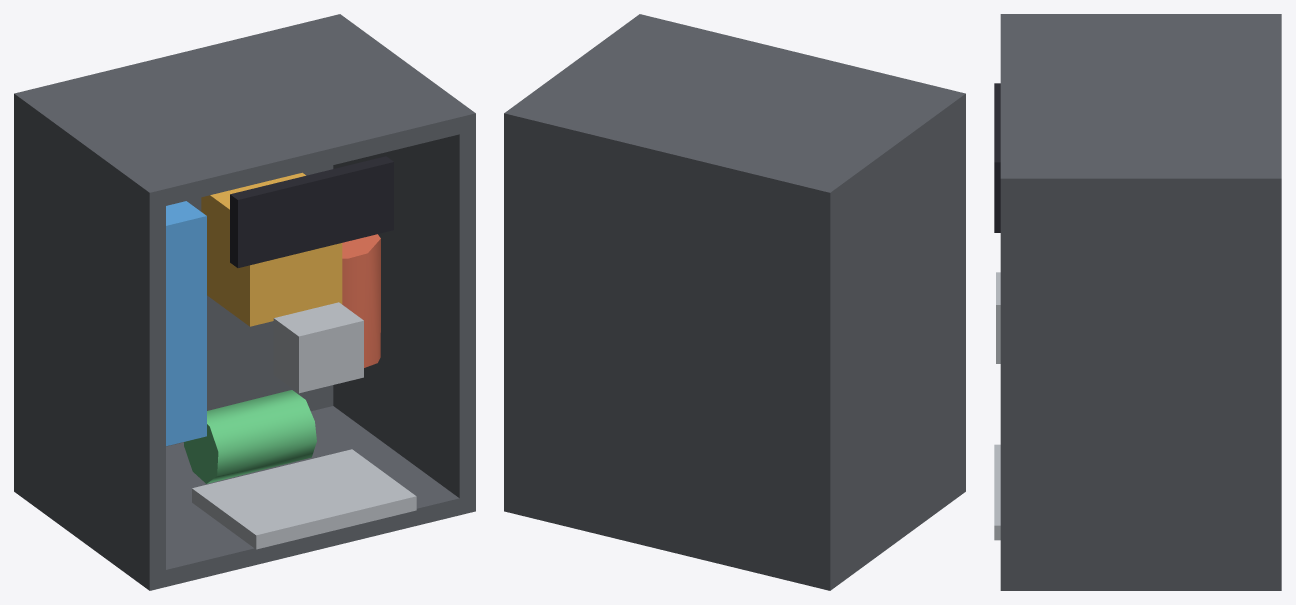
Rendered from coffee-machine-lod1.glb.
3 views of the same model, side by side, from view 1: azimuth 30°, elevation 25°; view 2: azimuth 150°, elevation 25°; view 3: azimuth 270°, elevation 25° (orthographic). The views are drawn at different scales.
Visible parts, largest first — view 1: body, cup-tray, control-panel, water-tank, brewing-unit, pump, outlet, heater; view 2: body; view 3: body, control-panel, cup-tray, outlet.
Boxes of the visible parts, <box> form: body: <box>14,14,475,590</box>; cup-tray: <box>192,449,416,549</box>; control-panel: <box>230,156,393,267</box>; water-tank: <box>166,201,206,446</box>; brewing-unit: <box>201,172,342,326</box>; pump: <box>184,390,316,483</box>; outlet: <box>273,302,363,393</box>; heater: <box>342,234,380,367</box>; body: <box>504,14,965,590</box>; body: <box>1000,14,1281,590</box>; control-panel: <box>994,83,1000,232</box>; cup-tray: <box>994,444,1000,540</box>; outlet: <box>996,272,1000,363</box>.
Bounding box in the file's own units: 2.4 × 2.8 × 1.77.
